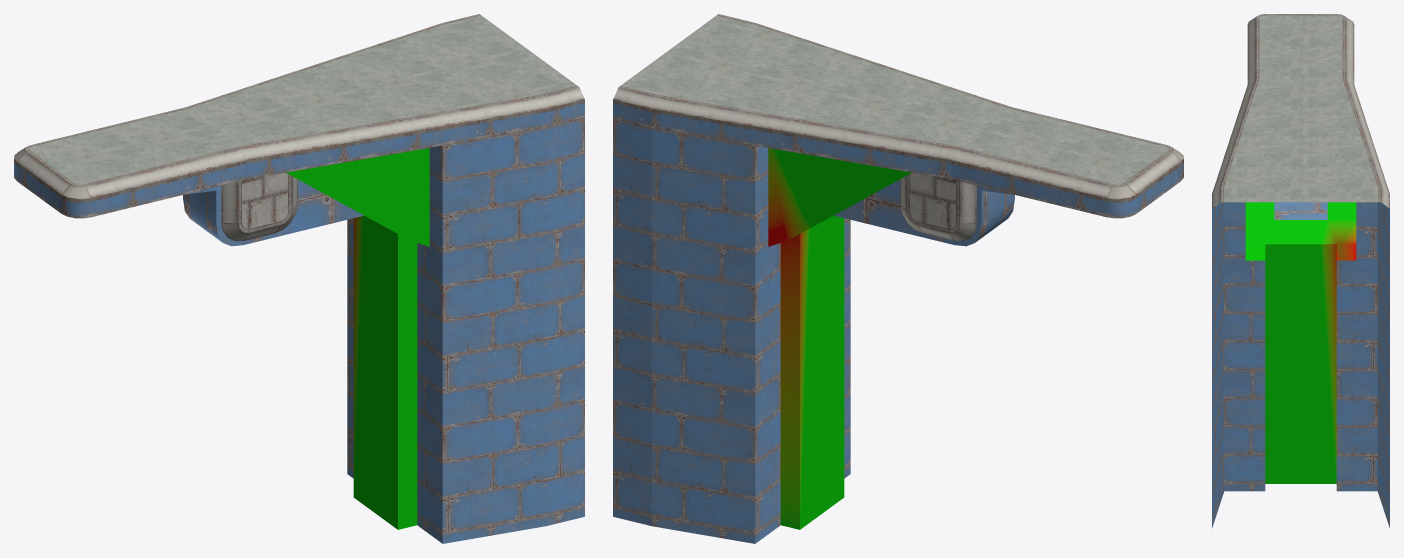
Rendered from Level_01_Backdrop_Docking_Bridge_A.fbx.
3 views of the same model, side by side, from view 1: azimuth 30°, elevation 25°; view 2: azimuth 150°, elevation 25°; view 3: azimuth 270°, elevation 25° (orthographic). The views are drawn at different scales.
Parts seen in each view (by area): view 1: Geometry_Level_01_Backdrop_Docking_Bridge_A; view 2: Geometry_Level_01_Backdrop_Docking_Bridge_A; view 3: Geometry_Level_01_Backdrop_Docking_Bridge_A.
Part boxes in pixels (bbox=[...]): Geometry_Level_01_Backdrop_Docking_Bridge_A: bbox=[14, 14, 584, 543]; Geometry_Level_01_Backdrop_Docking_Bridge_A: bbox=[613, 14, 1183, 543]; Geometry_Level_01_Backdrop_Docking_Bridge_A: bbox=[1212, 14, 1389, 528].
Size of the model in its own units: 2553 by 2119 by 1000.
